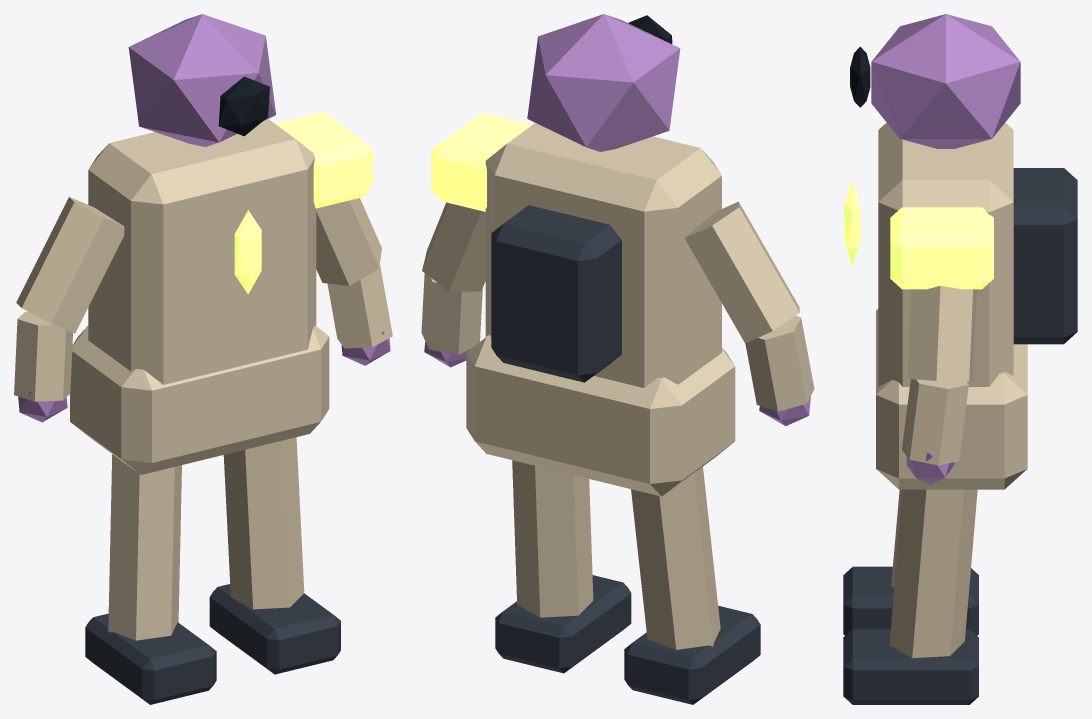
The model's file is npcs_006_seed11.glb.
The picture shows the model from 3 angles, left to right: view 1: azimuth 30°, elevation 25°; view 2: azimuth 150°, elevation 25°; view 3: azimuth 270°, elevation 25°; orthographic projection. The views are drawn at different scales.
Parts seen in each view (by area): view 1: npcs_006_seed11; view 2: npcs_006_seed11; view 3: npcs_006_seed11.
Boxes of the visible parts, box(x1,y1,x2,y2) form: npcs_006_seed11: box(14, 14, 392, 704); npcs_006_seed11: box(421, 14, 814, 704); npcs_006_seed11: box(843, 14, 1077, 704).
Bounding box in the file's own units: 1.14 × 1.85 × 0.6057.
